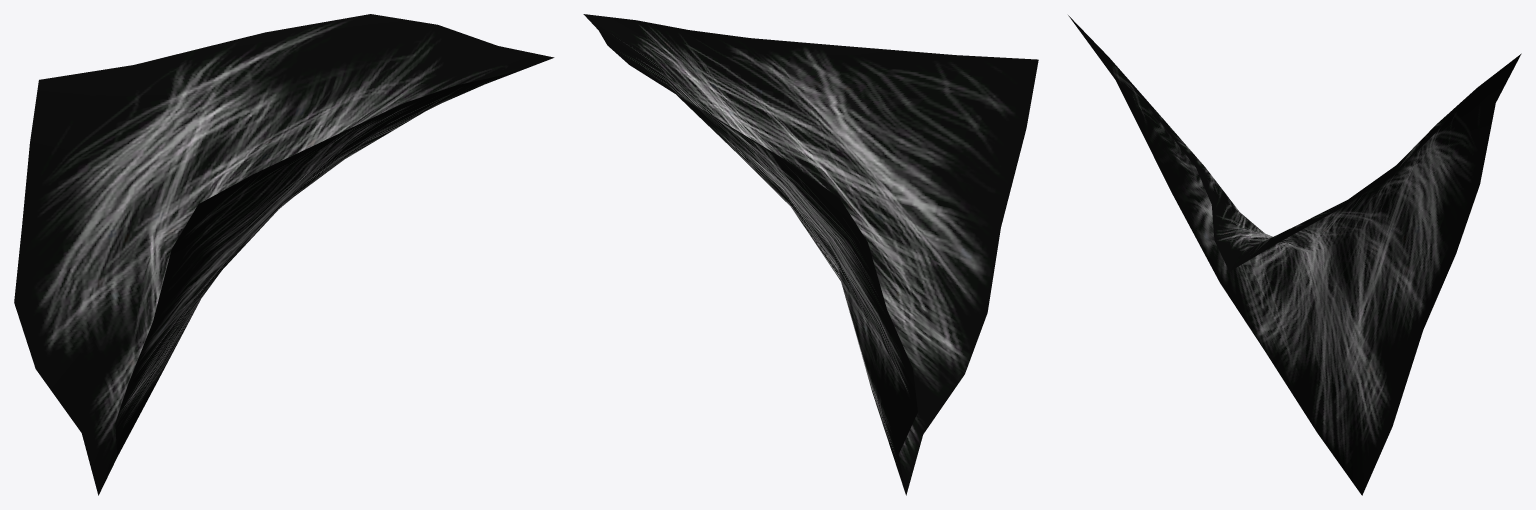
File: SWORDLIGHT20_PS-AREA01_CORNERWEB12.fbx
3 views of the same model, side by side, from view 1: azimuth 30°, elevation 25°; view 2: azimuth 150°, elevation 25°; view 3: azimuth 270°, elevation 25° (orthographic). The views are drawn at different scales.
Visible parts, largest first — view 1: SWORDLIGHT20_PS-AREA01_CORNERWEB12; view 2: SWORDLIGHT20_PS-AREA01_CORNERWEB12; view 3: SWORDLIGHT20_PS-AREA01_CORNERWEB12.
Part boxes in pixels (bbox=[...]): SWORDLIGHT20_PS-AREA01_CORNERWEB12: bbox=[14, 14, 554, 495]; SWORDLIGHT20_PS-AREA01_CORNERWEB12: bbox=[583, 14, 1038, 495]; SWORDLIGHT20_PS-AREA01_CORNERWEB12: bbox=[1068, 15, 1521, 495].
Size of the model in its own units: 61139 by 52612 by 44179.
1 material, 1 textured.
